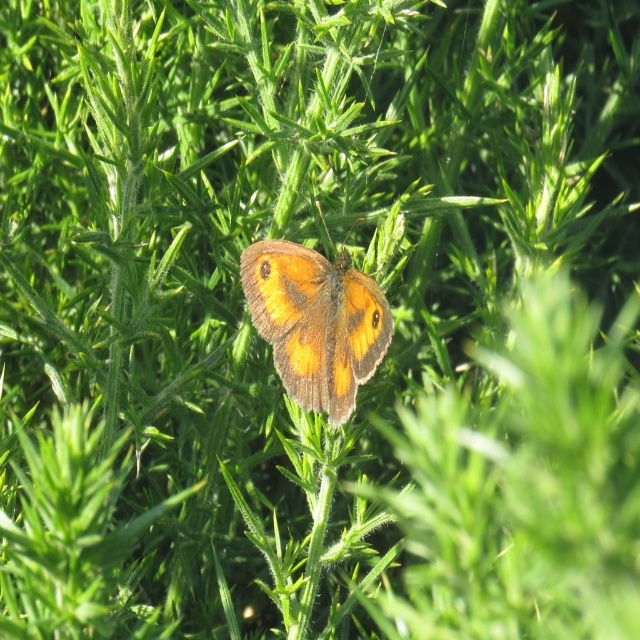Butterfly: (237, 224, 397, 444)
